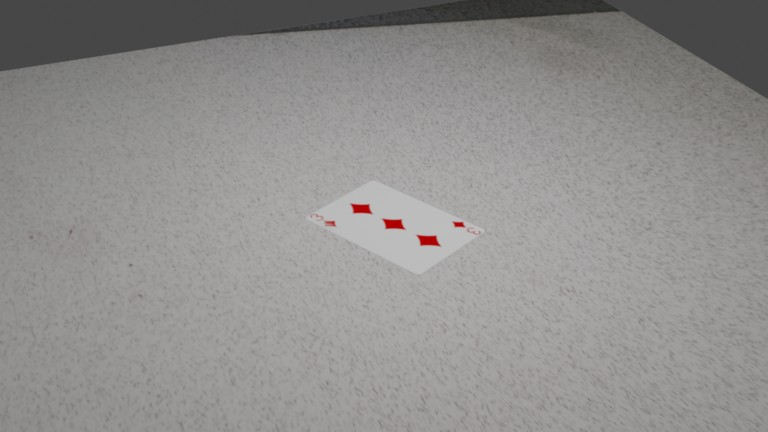3_of_diamonds: (444, 217, 484, 237), (306, 211, 345, 231)
